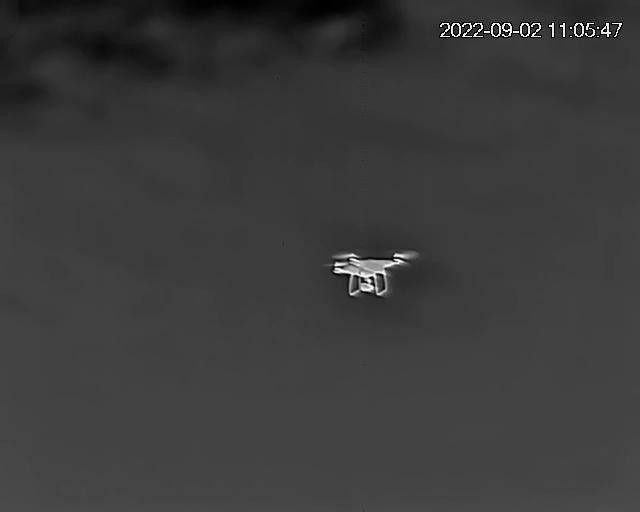DJI-Phantom: (332, 249, 419, 297)
